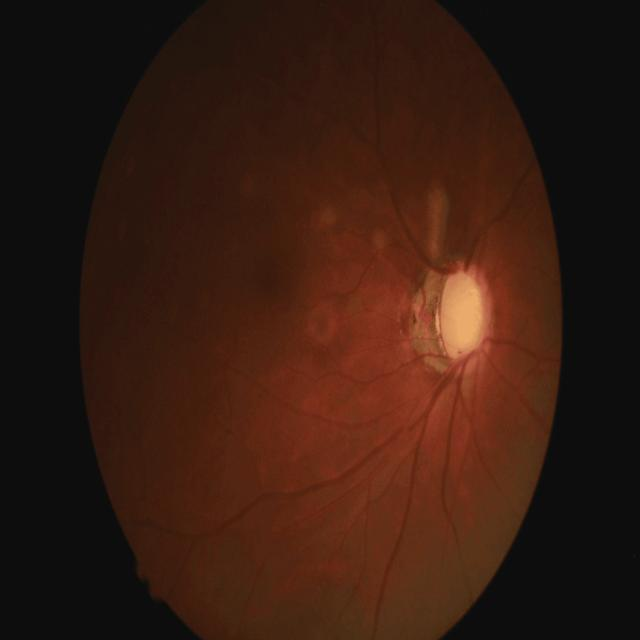cup: (442, 270, 487, 358)
disk: (438, 266, 497, 376)
